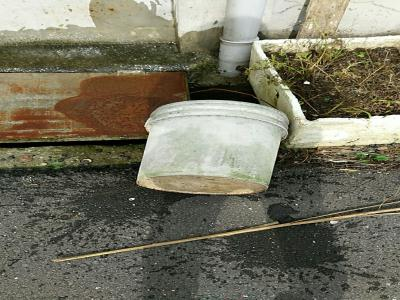bucket: (133, 96, 291, 202)
styrofoam: (244, 33, 400, 150)
